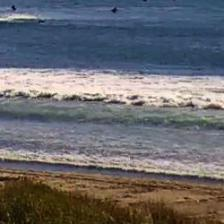surfer: (110, 6, 119, 14), (10, 4, 17, 12), (36, 19, 45, 24), (141, 0, 148, 4), (169, 0, 178, 2)
